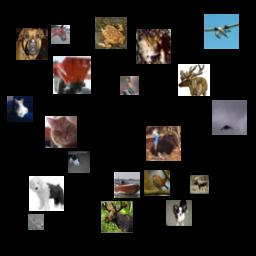airplane: (204, 14, 239, 49), (212, 100, 247, 135)
bird: (146, 126, 181, 161), (144, 170, 170, 196), (120, 76, 139, 95), (28, 214, 44, 230)
cat: (45, 116, 77, 148), (7, 96, 33, 122), (68, 151, 90, 173)
deer: (178, 64, 210, 96), (101, 201, 133, 233), (190, 175, 209, 194)
dog: (29, 176, 64, 211), (16, 28, 48, 60), (166, 200, 192, 226)
frog: (136, 29, 171, 64), (95, 17, 127, 49)
ship: (114, 172, 140, 198)
truck: (53, 56, 91, 94)
